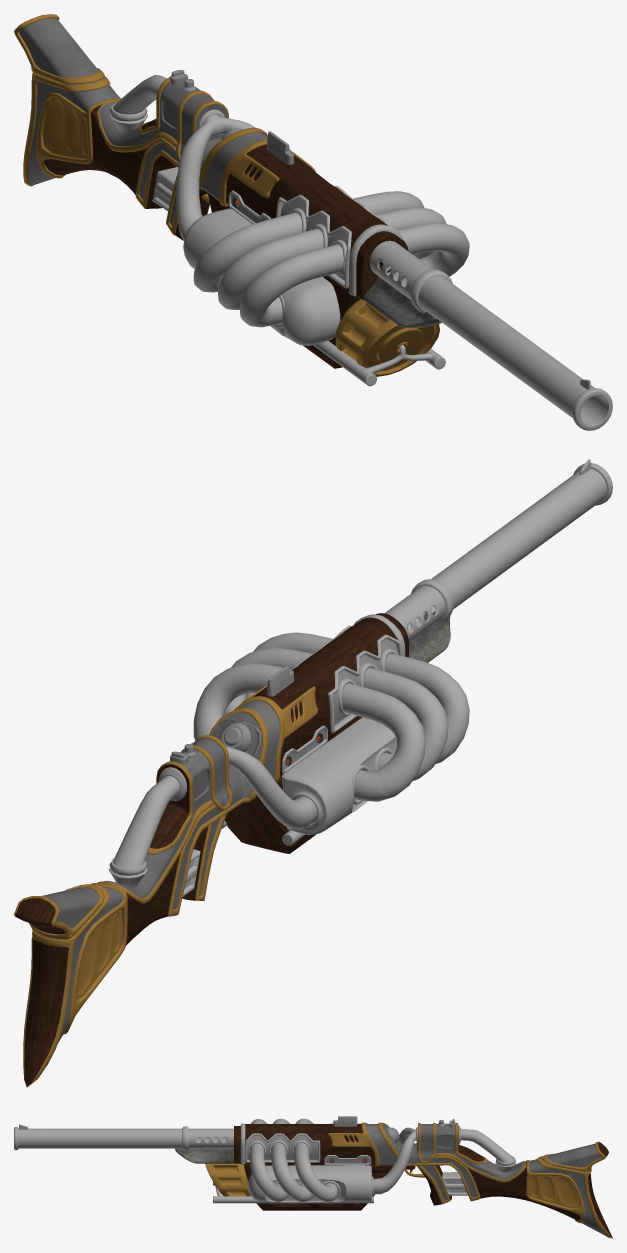
3 renders of one model, top to bottom at view 1: azimuth 30°, elevation 25°; view 2: azimuth 150°, elevation 25°; view 3: azimuth 270°, elevation 25°, orthographic. The views are drawn at different scales.
Visible parts, largest first — view 1: SMOOTH_STEEL, BRASS, BASIC_STEEL, WOOD, OTHER_MATERIAL; view 2: SMOOTH_STEEL, WOOD, BRASS, BASIC_STEEL, OTHER_MATERIAL; view 3: SMOOTH_STEEL, BRASS, BASIC_STEEL, WOOD, OTHER_MATERIAL.
Part boxes in pixels (x1,y1,x2,y2): SMOOTH_STEEL: (109, 75, 612, 430); BRASS: (14, 14, 439, 376); BASIC_STEEL: (19, 18, 347, 280); WOOD: (44, 105, 408, 368); OTHER_MATERIAL: (363, 276, 441, 327); SMOOTH_STEEL: (109, 459, 612, 896); WOOD: (15, 613, 408, 1086); BRASS: (14, 662, 428, 1087); BASIC_STEEL: (40, 638, 398, 1042); OTHER_MATERIAL: (409, 611, 450, 662); SMOOTH_STEEL: (14, 1118, 516, 1203); BRASS: (205, 1122, 612, 1238); BASIC_STEEL: (247, 1116, 605, 1235); WOOD: (234, 1124, 612, 1237); OTHER_MATERIAL: (175, 1148, 233, 1163).
Size of the model in its own units: 5.32 by 5.27 by 23.47.
8 materials, 4 textured.
